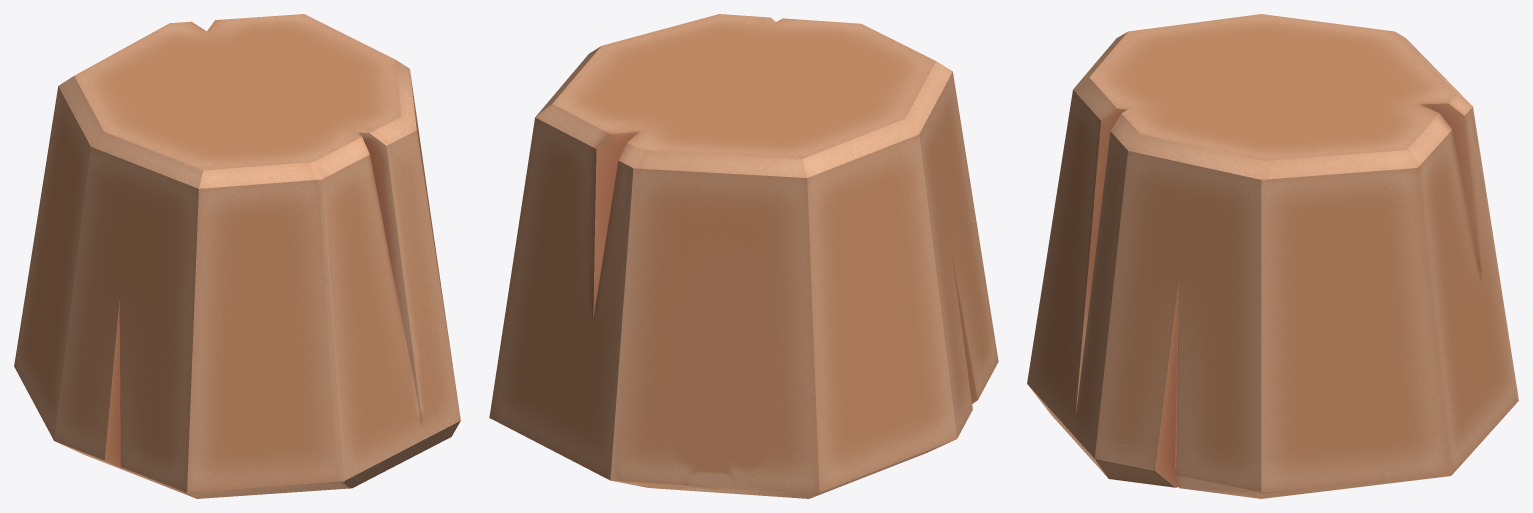
File: Rock 15.fbx
The picture shows the model from 3 angles, left to right: view 1: azimuth 30°, elevation 25°; view 2: azimuth 150°, elevation 25°; view 3: azimuth 270°, elevation 25°; orthographic projection. The views are drawn at different scales.
Visible parts, largest first — view 1: Rock_15; view 2: Rock_15; view 3: Rock_15.
Part boxes in pixels (left/top/right/bottom): Rock_15: left=14, top=14, right=460, bottom=498; Rock_15: left=489, top=14, right=998, bottom=498; Rock_15: left=1027, top=14, right=1518, bottom=498.
Bounding box in the file's own units: 2.59 × 2 × 2.72.
